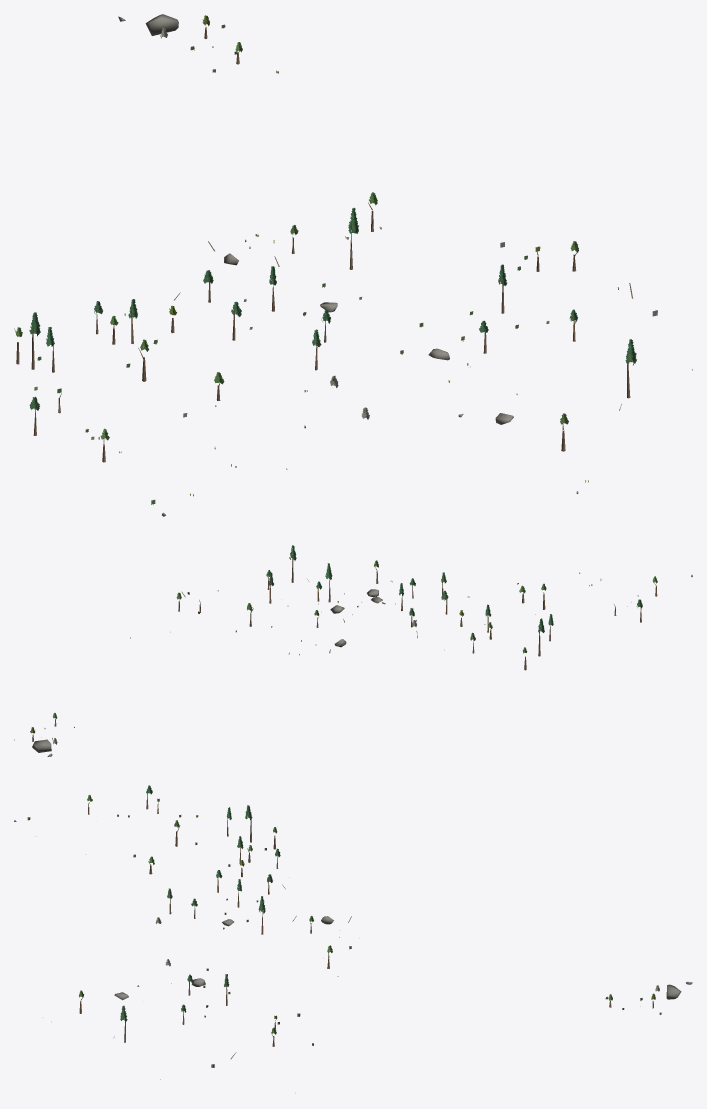
Rendered from arch_land_scatter_c23_18_lod1.glb.
3 renders of one model, top to bottom at view 1: azimuth 30°, elevation 25°; view 2: azimuth 150°, elevation 25°; view 3: azimuth 270°, elevation 25°, orthographic. The views are drawn at different scales.
Parts seen in each view (by area): view 1: arch_land_scatter_c23_18_lod1; view 2: arch_land_scatter_c23_18_lod1; view 3: arch_land_scatter_c23_18_lod1.
Part boxes in pixels (bbox=[...]): arch_land_scatter_c23_18_lod1: bbox=[14, 14, 692, 516]; arch_land_scatter_c23_18_lod1: bbox=[14, 545, 692, 756]; arch_land_scatter_c23_18_lod1: bbox=[14, 785, 692, 1093].
Size of the model in its own units: 162 by 37.98 by 215.
